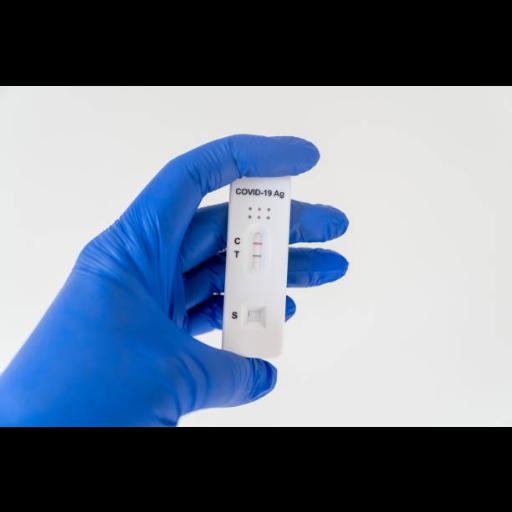Pos: (223, 176, 291, 358)
